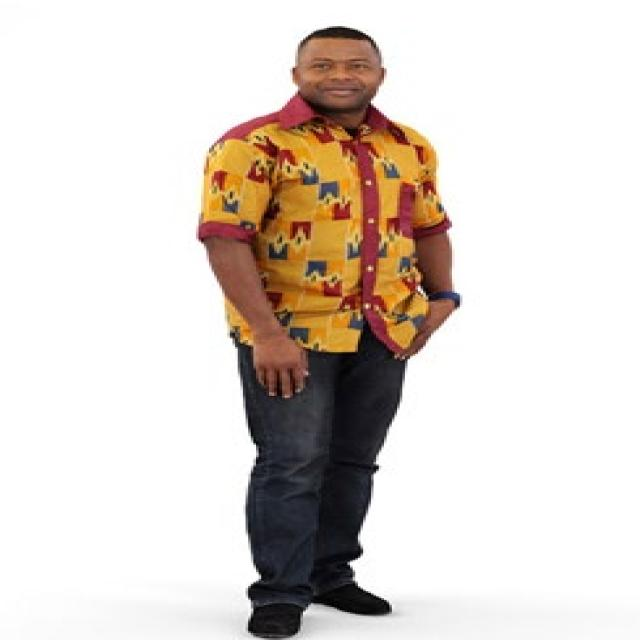standing: (191, 24, 473, 640)
